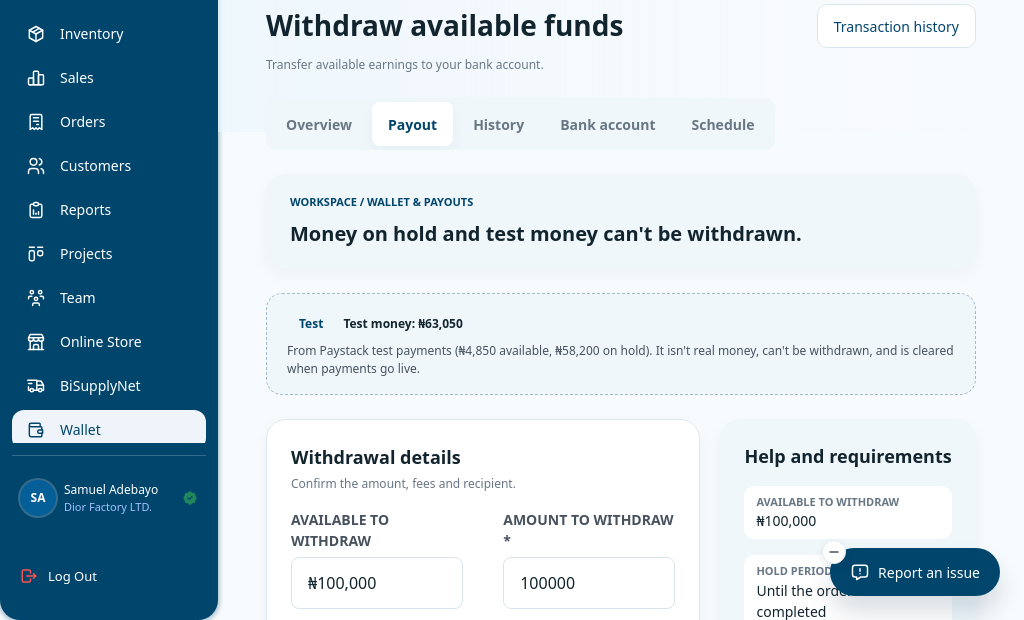
Test: wallet › 06.04 → 06.05 → 06.06: amount, Paystack fee and net shown; nothing sent until Confirm
Replace the text in the field labelled "Amount to withdraw *" with "50000". click: (594, 582)
box: [520,558,668,608]
(page scrolled)
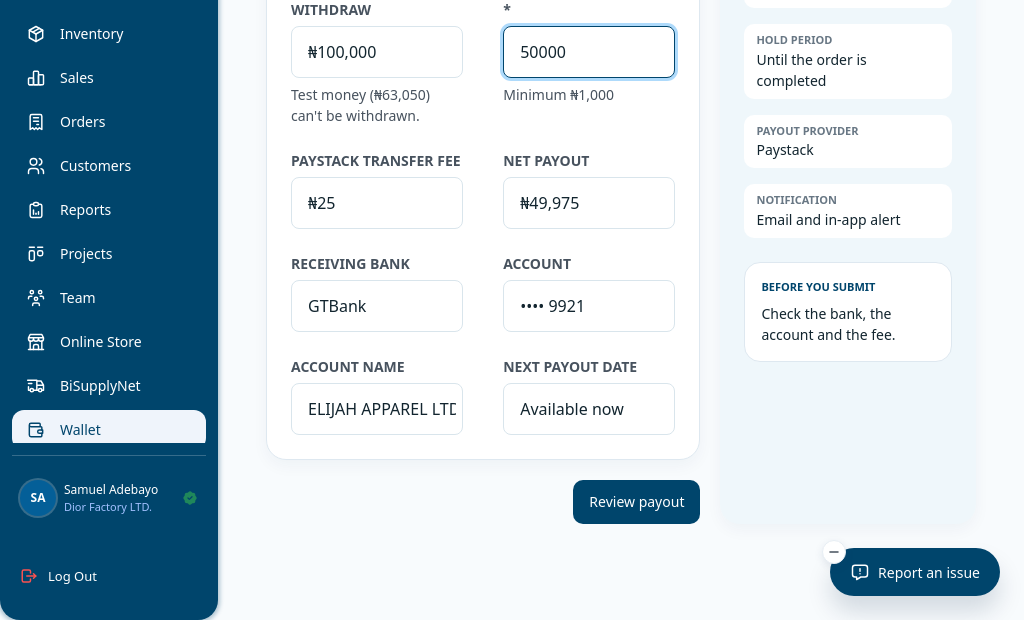
Now the field labelled "Net payout" holds "₦49,975", box [520,178,668,228]
Now the field labelled "Paystack transfer fee" holds "₦25", box [308,178,456,228]
Click the button "Review payout". click: (637, 502)
box: [573,480,700,524]
(page scrolled)
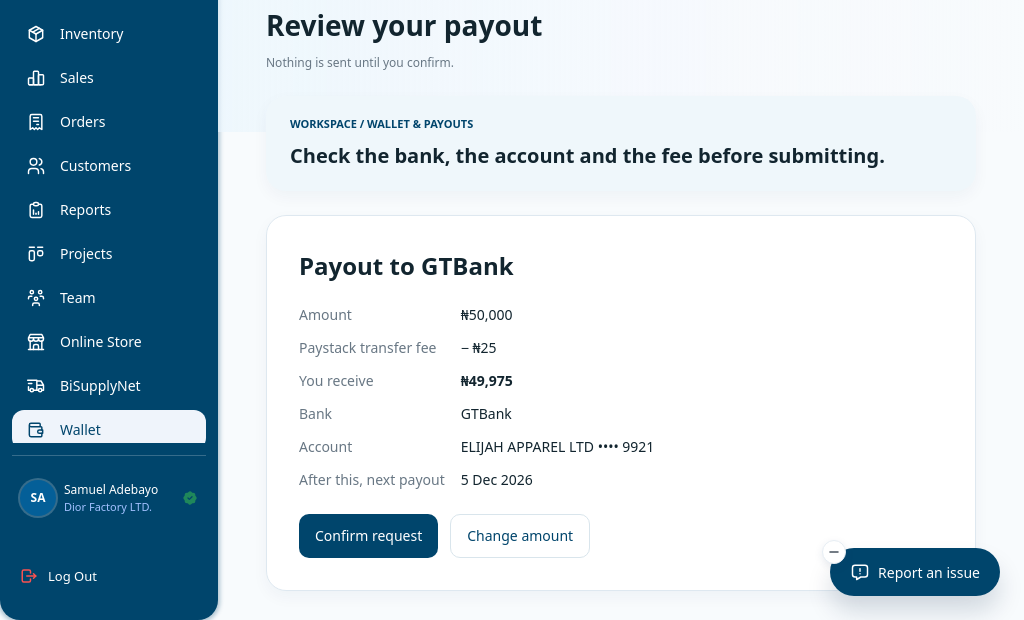
Now the text "₦49,975" is shown, box [461,370,513,390]
Click the button "Confirm request". click: (369, 536)
box: [299,514,438,558]
(page scrolled)
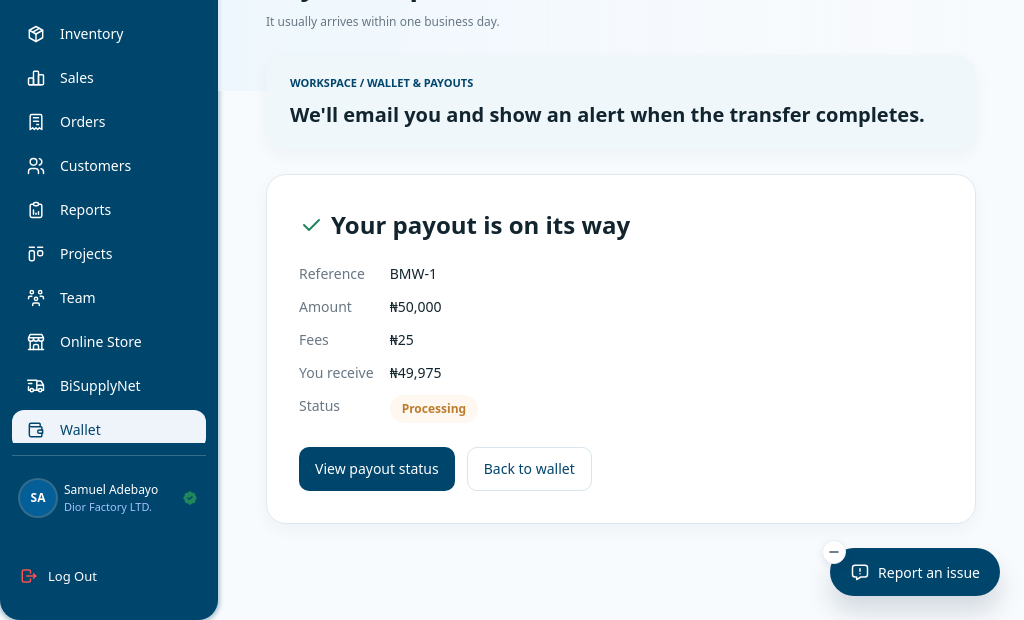
Now the heading "Your payout is on its way" is shown, box [299,208,630,240]
